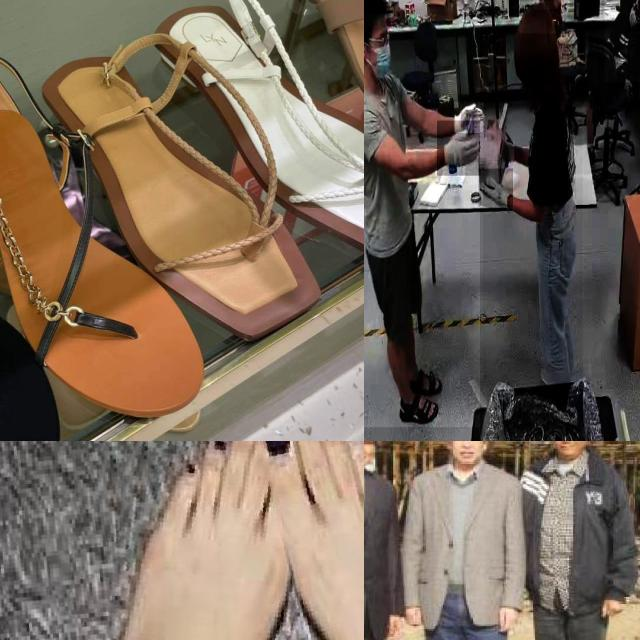Barefoots: (115, 441, 304, 640), (268, 441, 364, 640)
Sandals: (35, 8, 333, 338), (0, 28, 219, 438), (156, 0, 364, 261), (0, 69, 77, 441)
face_mask: (369, 35, 397, 85), (628, 5, 640, 32)
hand_glove: (437, 120, 481, 176), (479, 168, 513, 206), (454, 102, 484, 133)
hand_noglove: (493, 602, 524, 637), (597, 596, 627, 619), (384, 610, 407, 637), (403, 603, 423, 630)
head_nohelmet: (515, 2, 557, 34), (364, 0, 386, 15)
person: (364, 0, 480, 428), (483, 0, 583, 386), (394, 441, 527, 640), (510, 441, 639, 640), (604, 0, 640, 83)
